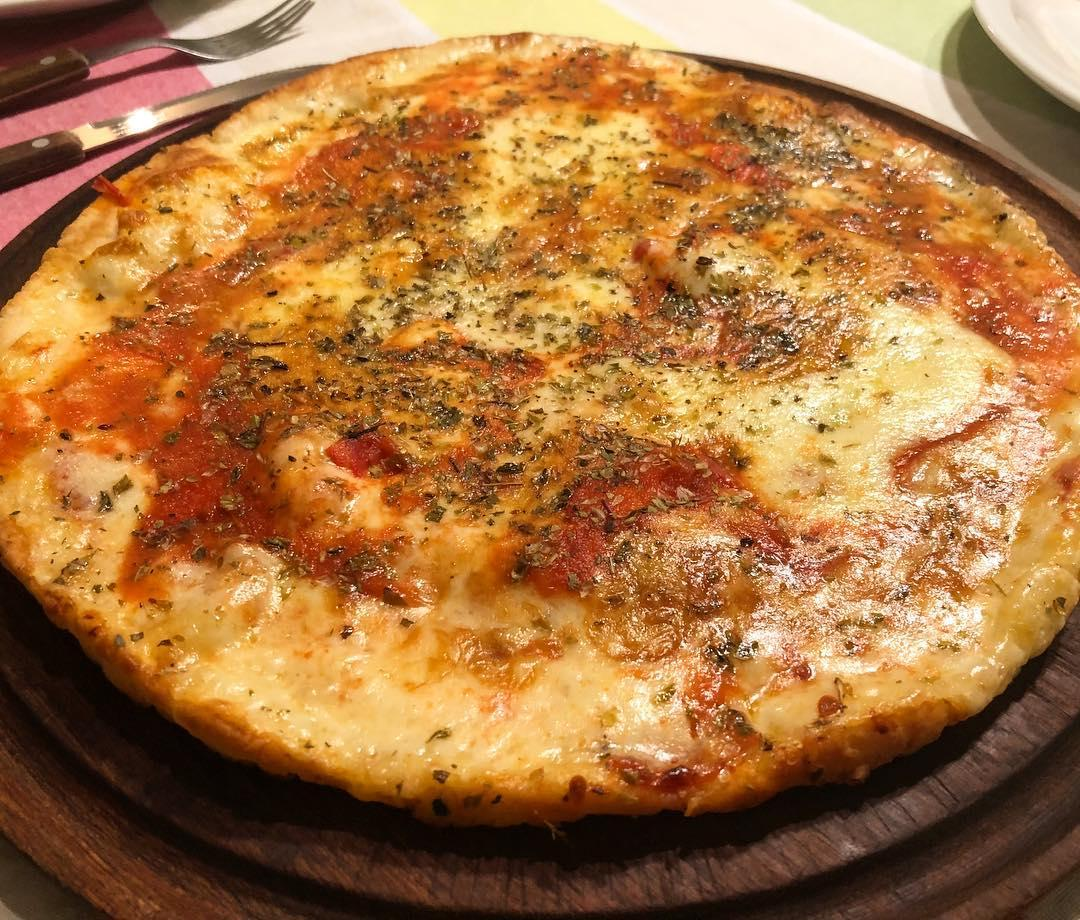Pizza: (0, 31, 1080, 827)
